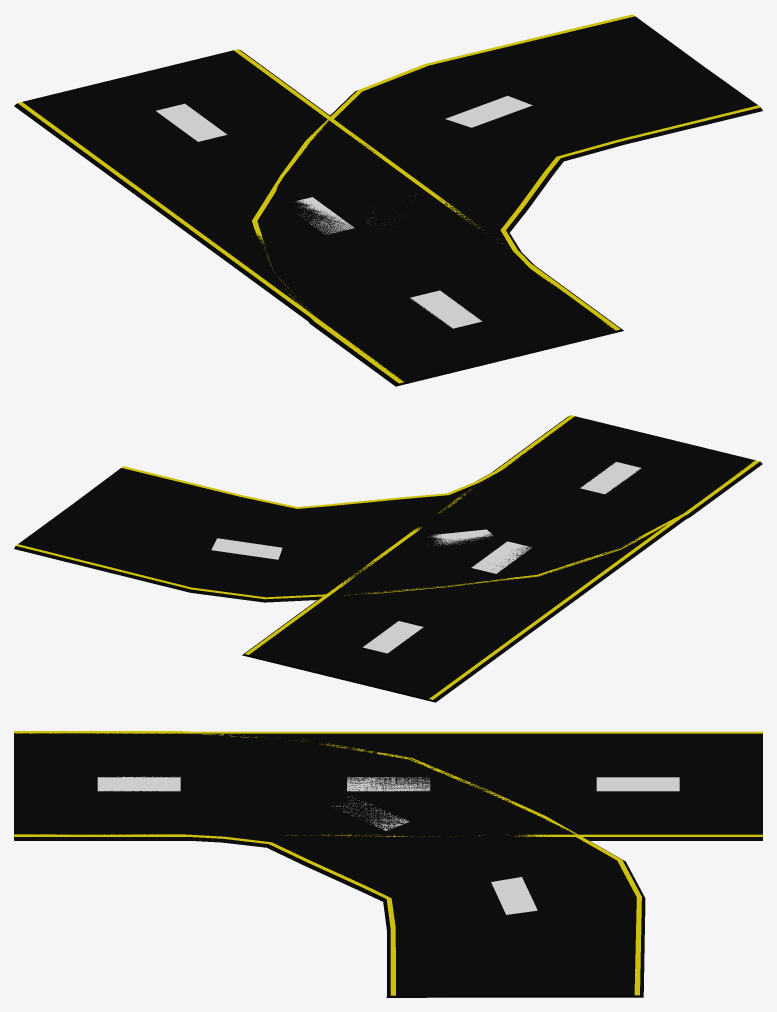
File: Roads.fbx
3 renders of one model, top to bottom at view 1: azimuth 30°, elevation 25°; view 2: azimuth 150°, elevation 25°; view 3: azimuth 270°, elevation 25°, orthographic. The views are drawn at different scales.
Parts seen in each view (by area): view 1: RoadCurve, RoadStraight; view 2: RoadCurve, RoadStraight; view 3: RoadCurve, RoadStraight.
Boxes of the visible parts, box(x1,y1,x2,y2) form: RoadCurve: box(252, 14, 762, 386); RoadStraight: box(14, 49, 623, 382); RoadCurve: box(14, 415, 762, 602); RoadStraight: box(242, 415, 758, 702); RoadCurve: box(14, 731, 645, 997); RoadStraight: box(14, 731, 762, 840).
Size of the model in its own units: 505 by 2 by 600.
